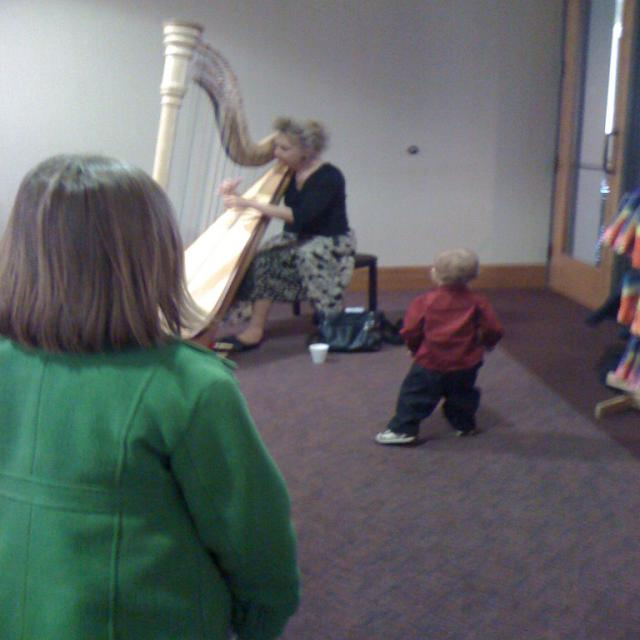harp: (117, 19, 306, 353)
